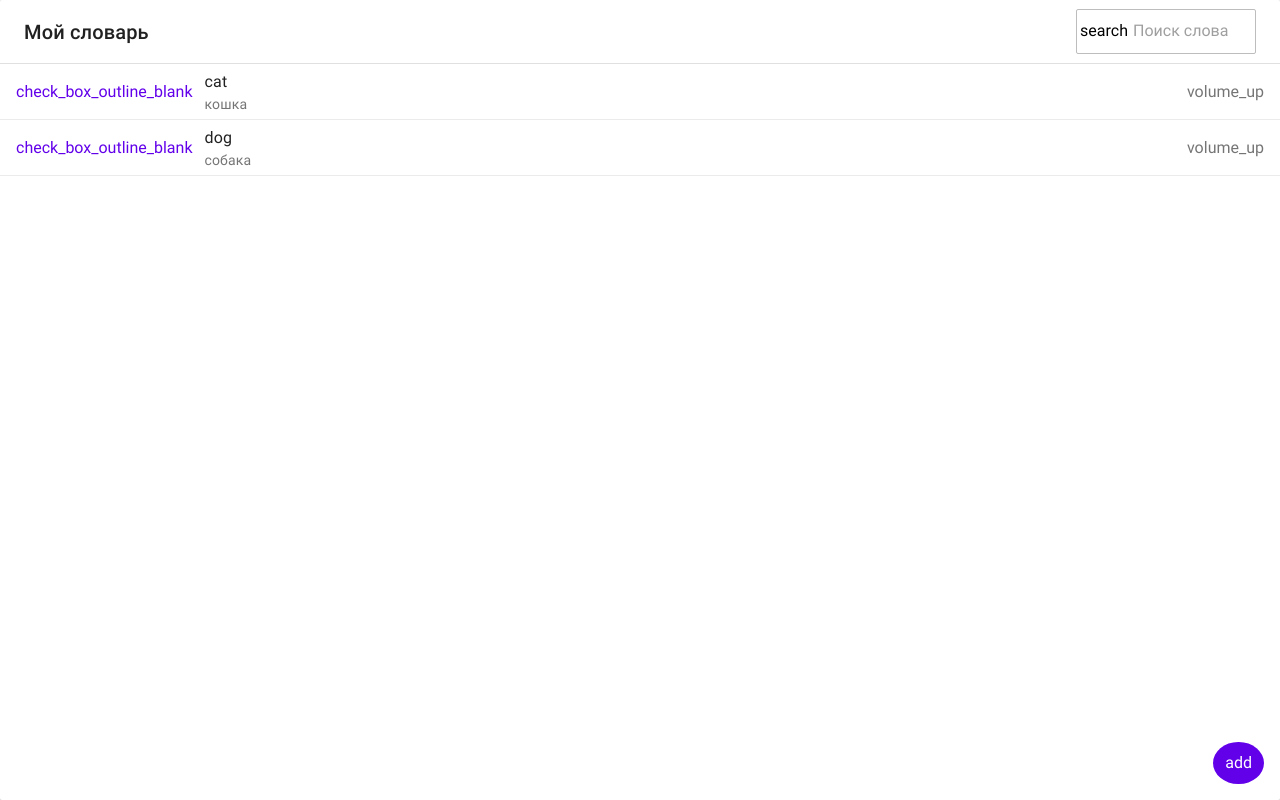
Test case: edit word pair
The width and height of the screenshot is (1280, 800).
Click the text "dog". click: [218, 138]
box: [204,128,232,147]
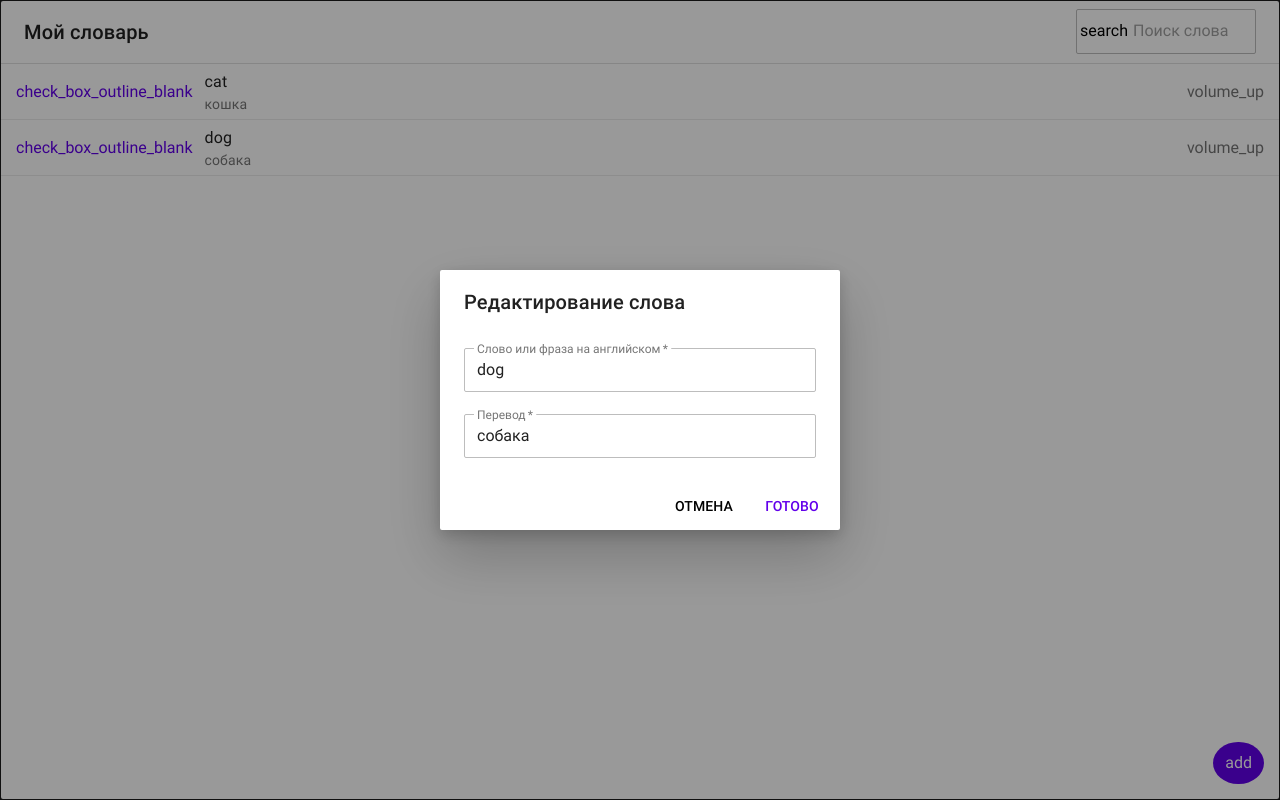
Replace the text in the field labelled "Слово или фраза на английском" with "hound". click: [640, 370]
box: [464,348,816,392]
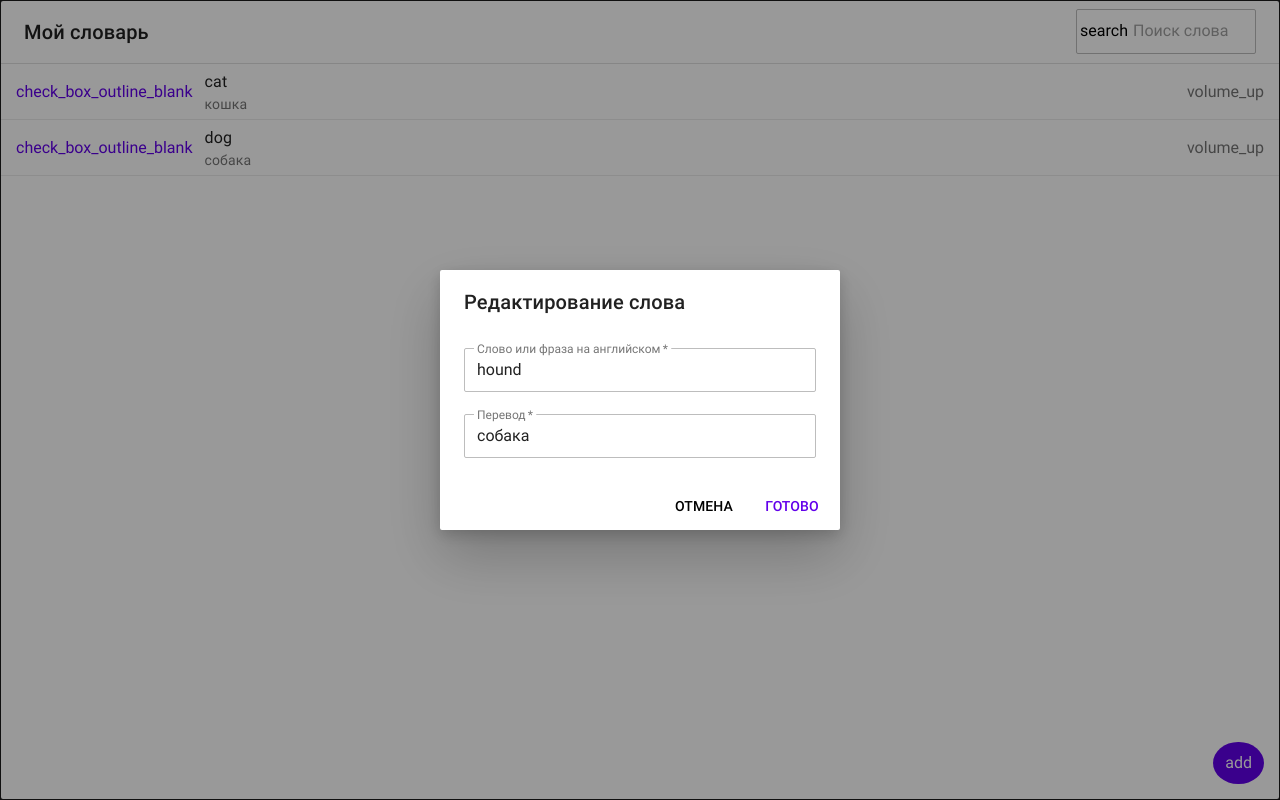
Replace the text in the field labelled "Перевод" with "гончая". click: [640, 436]
box: [464,414,816,458]
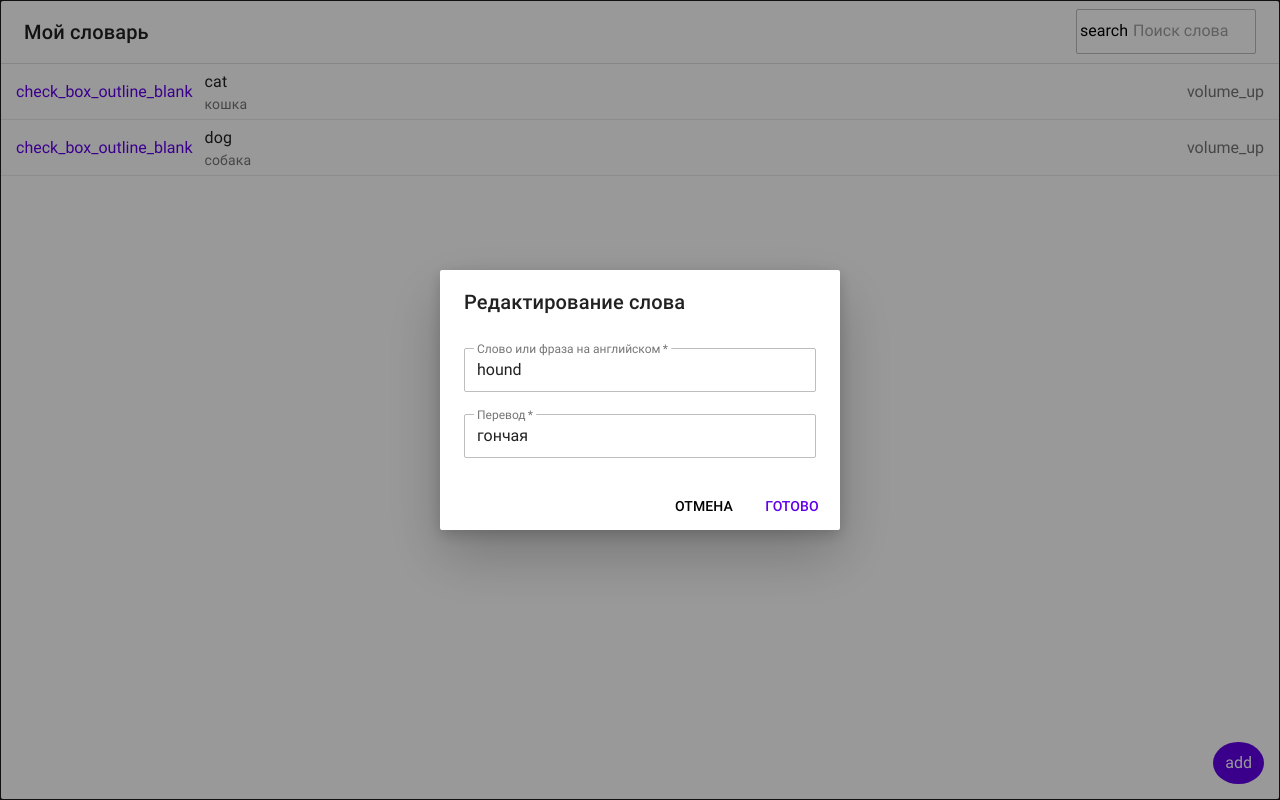
Click the button "Готово". click: [792, 506]
box: [752,490,832,522]
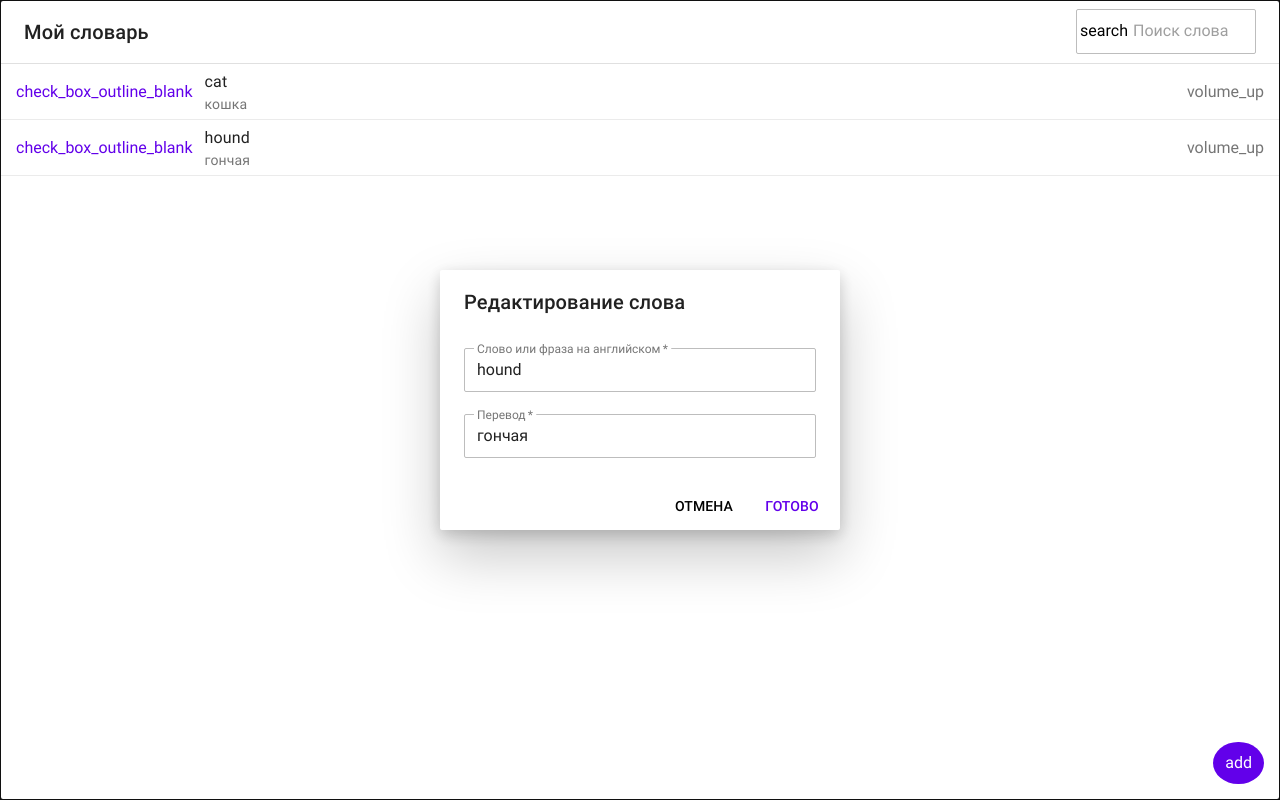
Now the button "dog" is gone
Now the button "собака" is gone
